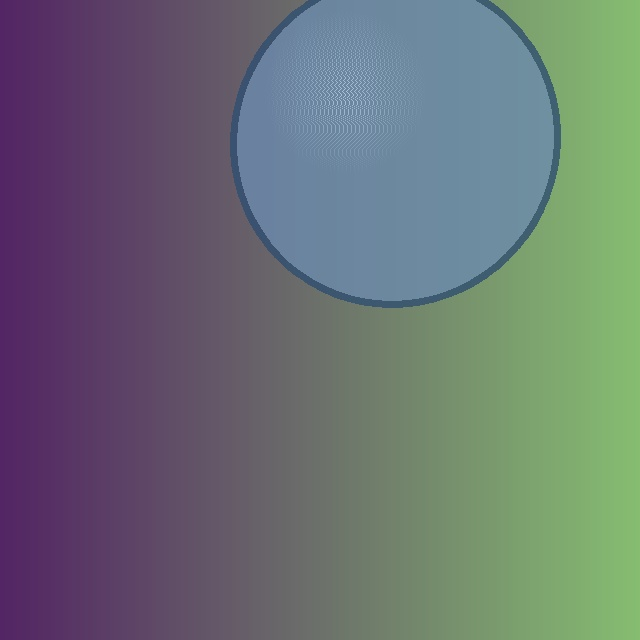lens: (233, 0, 557, 304)
